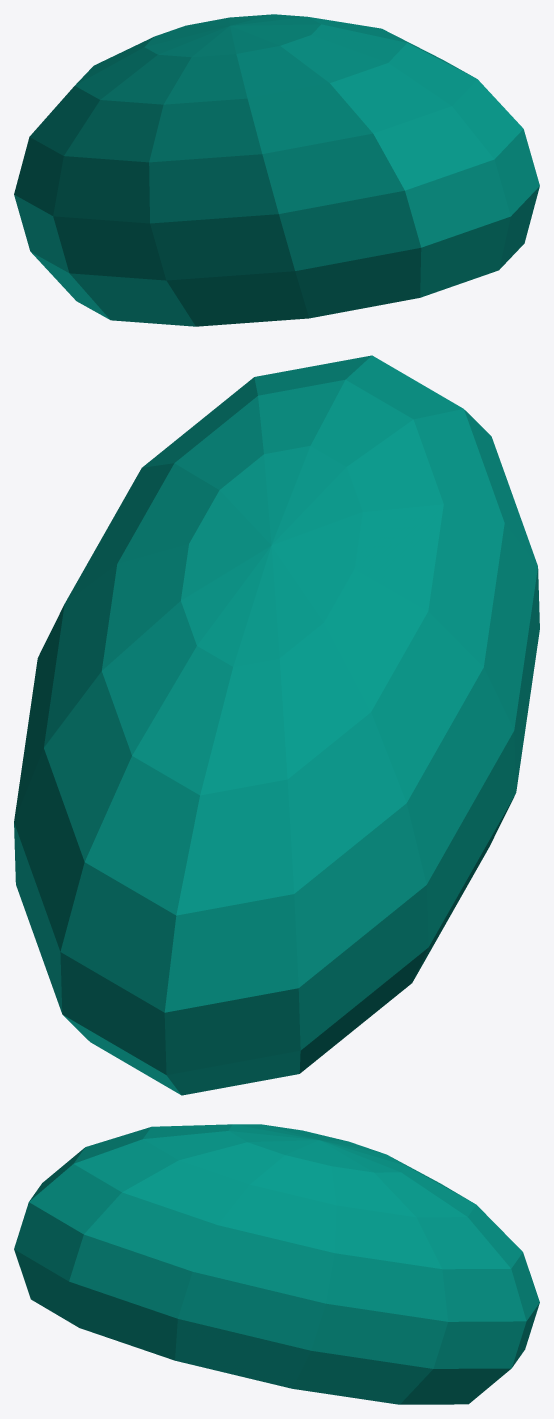
The model's file is n5_group1243493786_lev5.glb.
3 views of the same model, one above another, from view 1: azimuth 30°, elevation 25°; view 2: azimuth 150°, elevation 25°; view 3: azimuth 270°, elevation 25° (orthographic). The views are drawn at different scales.
Parts seen in each view (by area): view 1: n5_group1243493786_lev5; view 2: n5_group1243493786_lev5; view 3: n5_group1243493786_lev5.
Boxes of the visible parts, x1,y1,x2,y2 form: n5_group1243493786_lev5: (14,14,539,326); n5_group1243493786_lev5: (14,355,539,1095); n5_group1243493786_lev5: (14,1124,539,1404).
Size of the model in its own units: 1.12 by 1.09 by 1.84.
